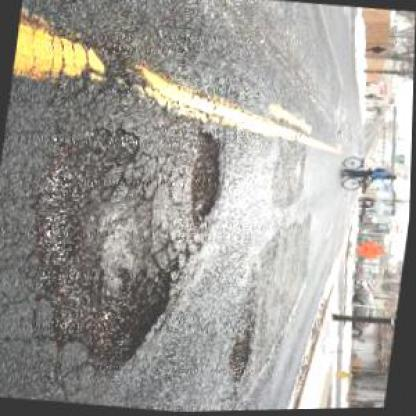pothole: (11, 115, 203, 381), (184, 126, 230, 230), (226, 313, 261, 384)
